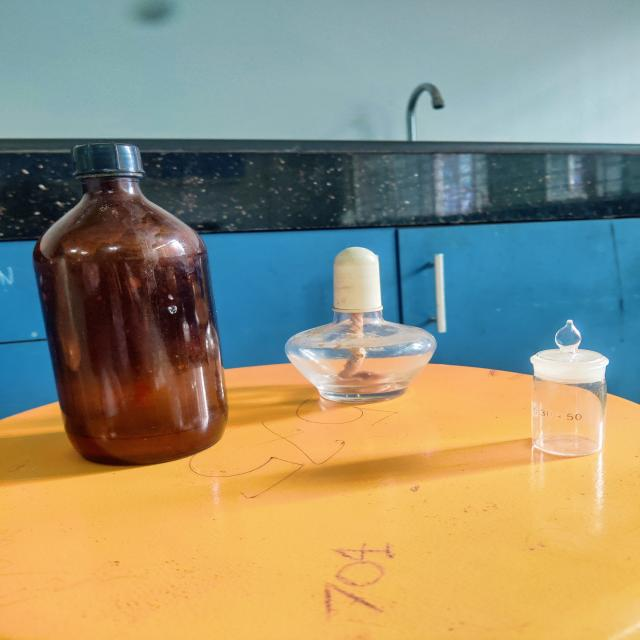Nessler_Reagent_Bottle: (21, 138, 253, 476)
Spirit_Lamp: (274, 227, 440, 421)
Weighing_Bottle: (519, 312, 628, 477)
